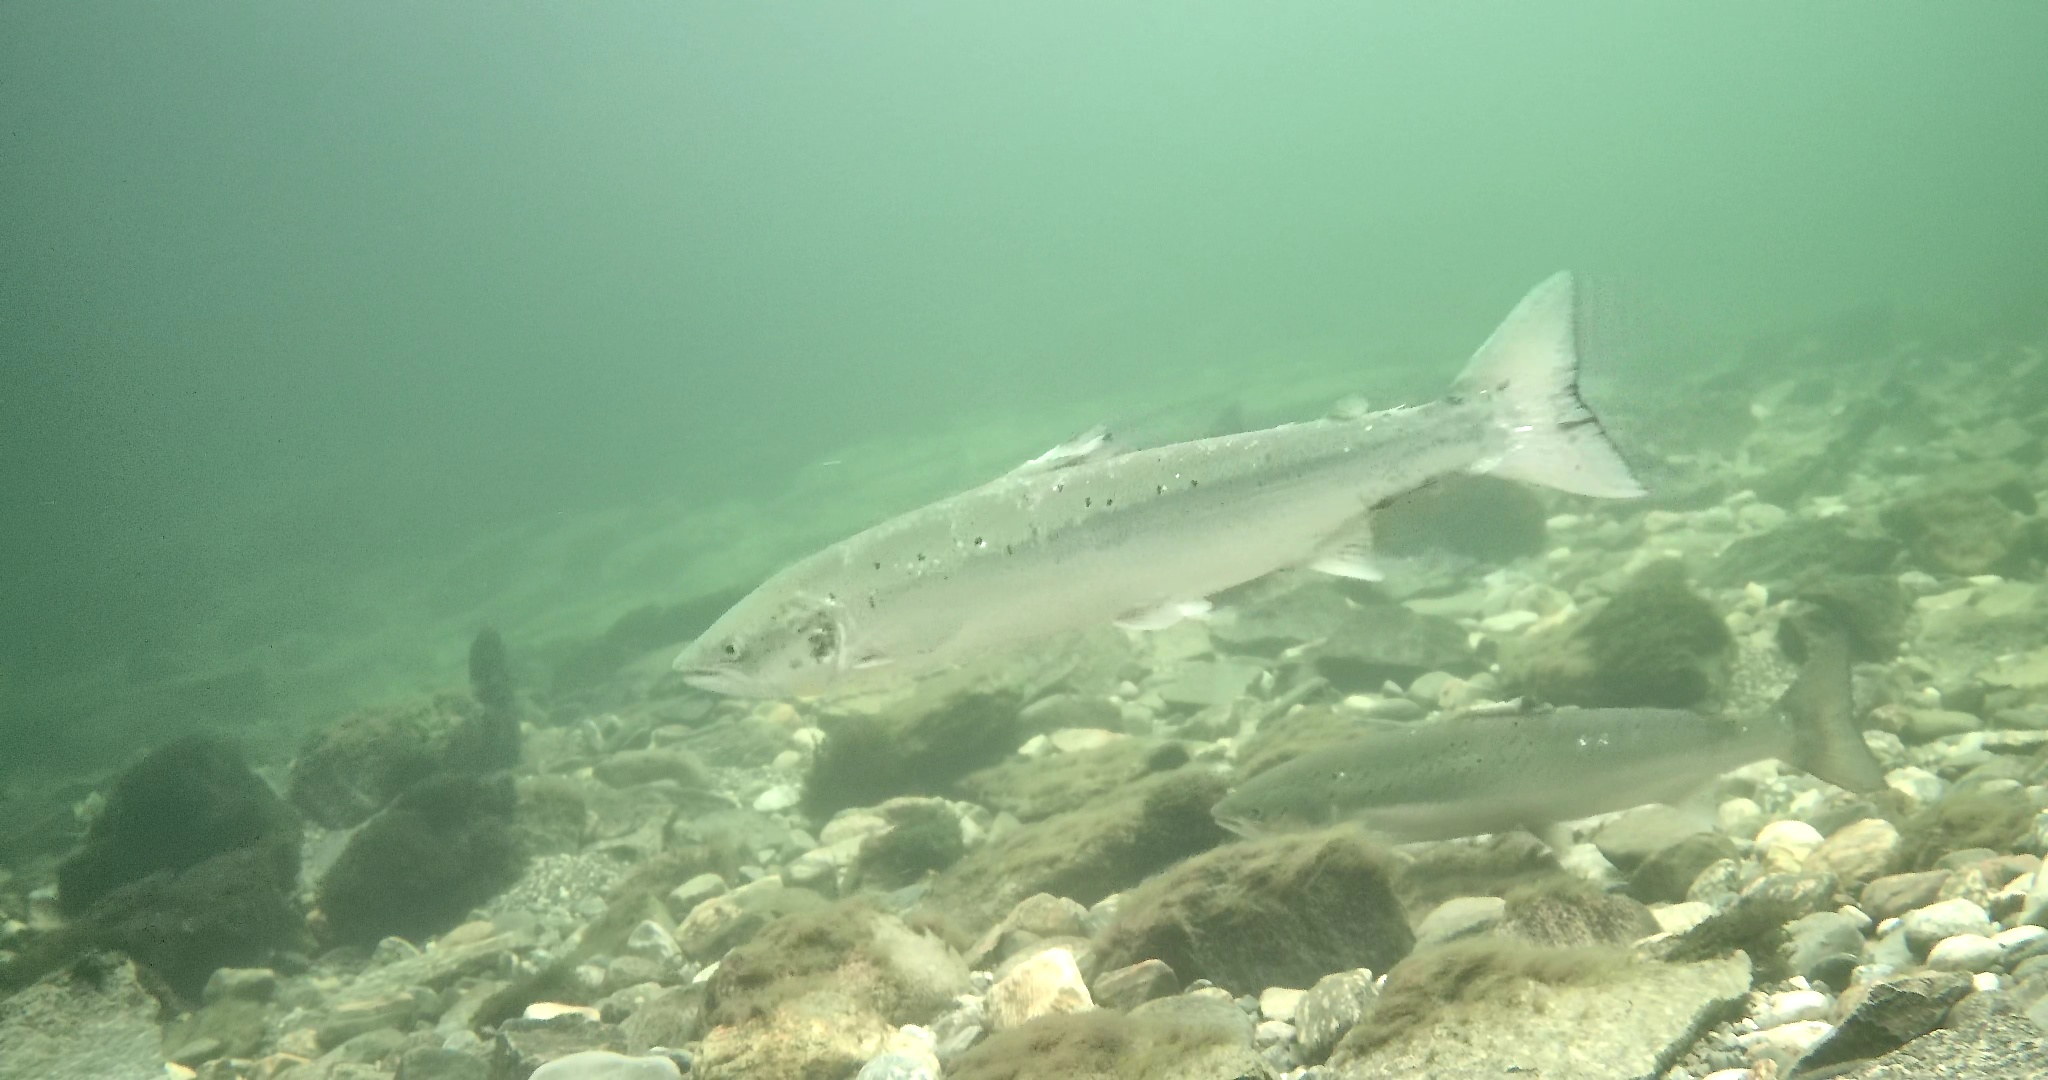salmon: (669, 263, 1652, 705), (1203, 623, 1892, 852)
